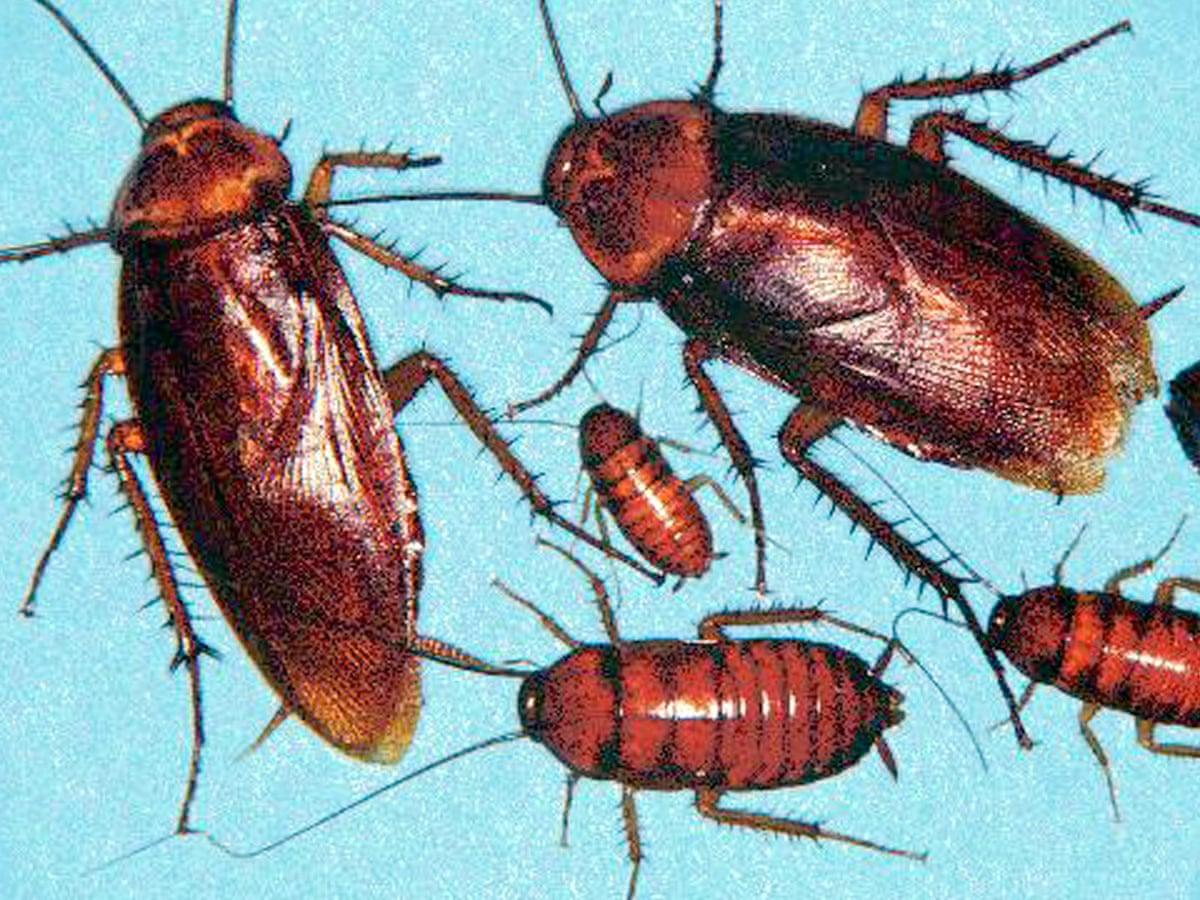cockroach: (3, 0, 544, 842), (487, 0, 1164, 607), (454, 541, 920, 870), (962, 524, 1200, 776), (564, 371, 745, 596)
